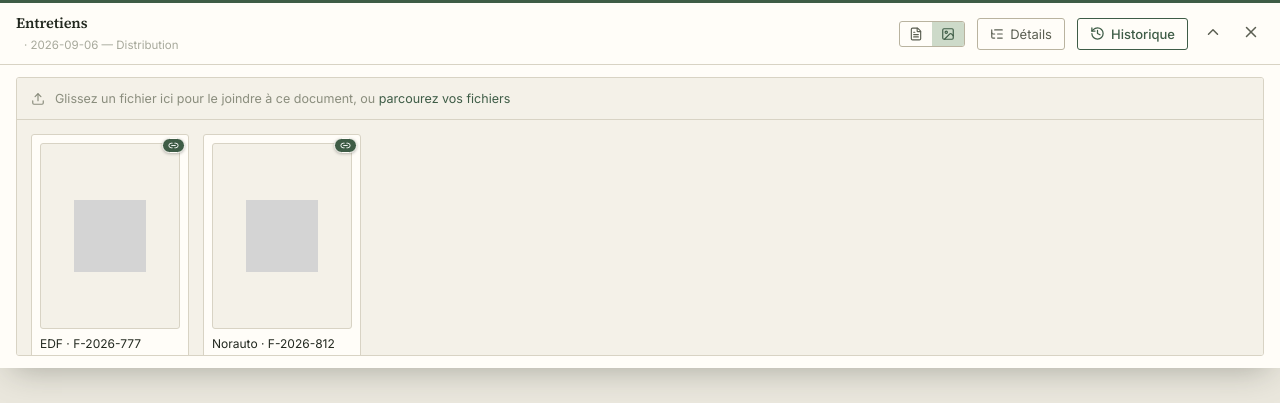
it: un document lié se regarde sans quitter la fiche (§22.73) › le désigne au lieu d'emmener sur sa fiche
This screenshot has width=1280, height=403.
Click the text "EDF · F-2026-777": x=91, y=343 left=40, top=336, right=141, bottom=351
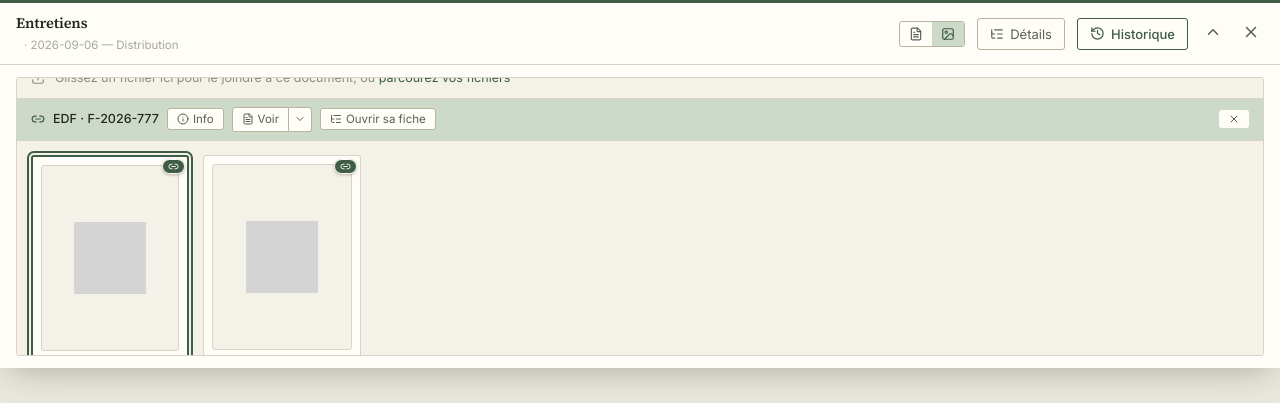
Result: the button titled "Ce que ce document porte" is shown at left=167, top=108, right=224, bottom=130
Result: the link titled "Lire ce document ici" is shown at left=232, top=107, right=289, bottom=132
